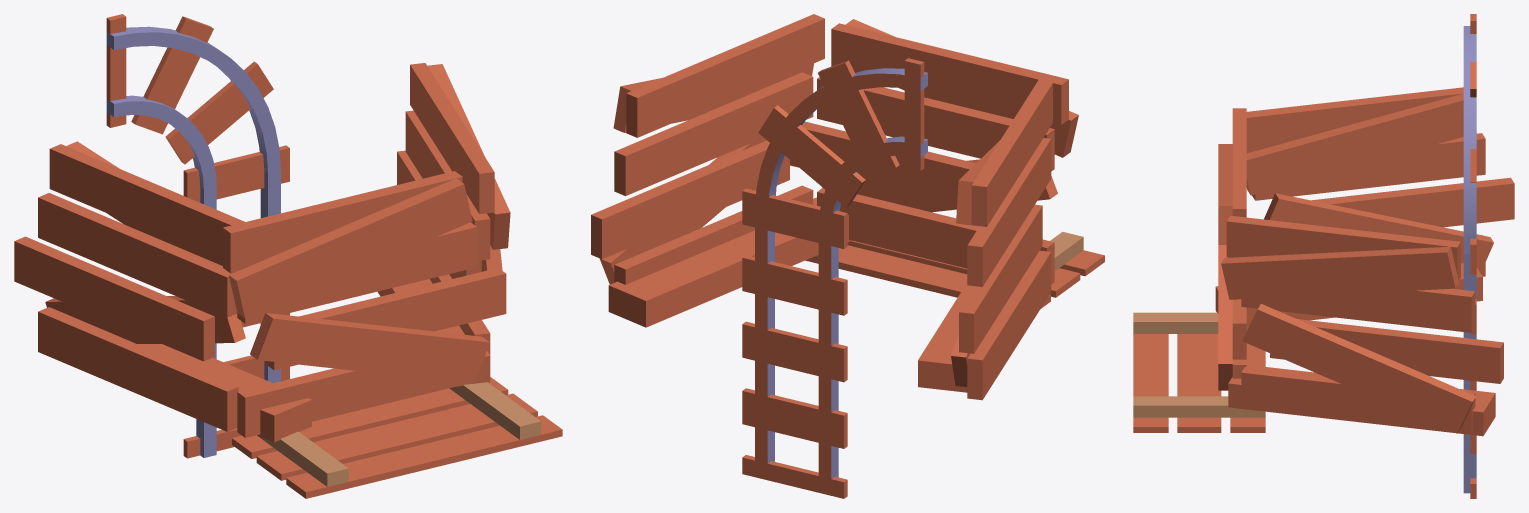
File: ExitUnified.fbx
The picture shows the model from 3 angles, left to right: view 1: azimuth 30°, elevation 25°; view 2: azimuth 150°, elevation 25°; view 3: azimuth 270°, elevation 25°; orthographic projection. The views are drawn at different scales.
Parts seen in each view (by area): view 1: mergedBlocks; view 2: mergedBlocks; view 3: mergedBlocks.
Boxes of the visible parts, x1,y1,x2,y2 form: mergedBlocks: [14, 14, 562, 498]; mergedBlocks: [591, 14, 1104, 498]; mergedBlocks: [1133, 14, 1514, 498].
Bounding box in the file's own units: 15.55 × 17 × 14.43.
